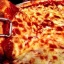pizza: (2, 1, 64, 64)
